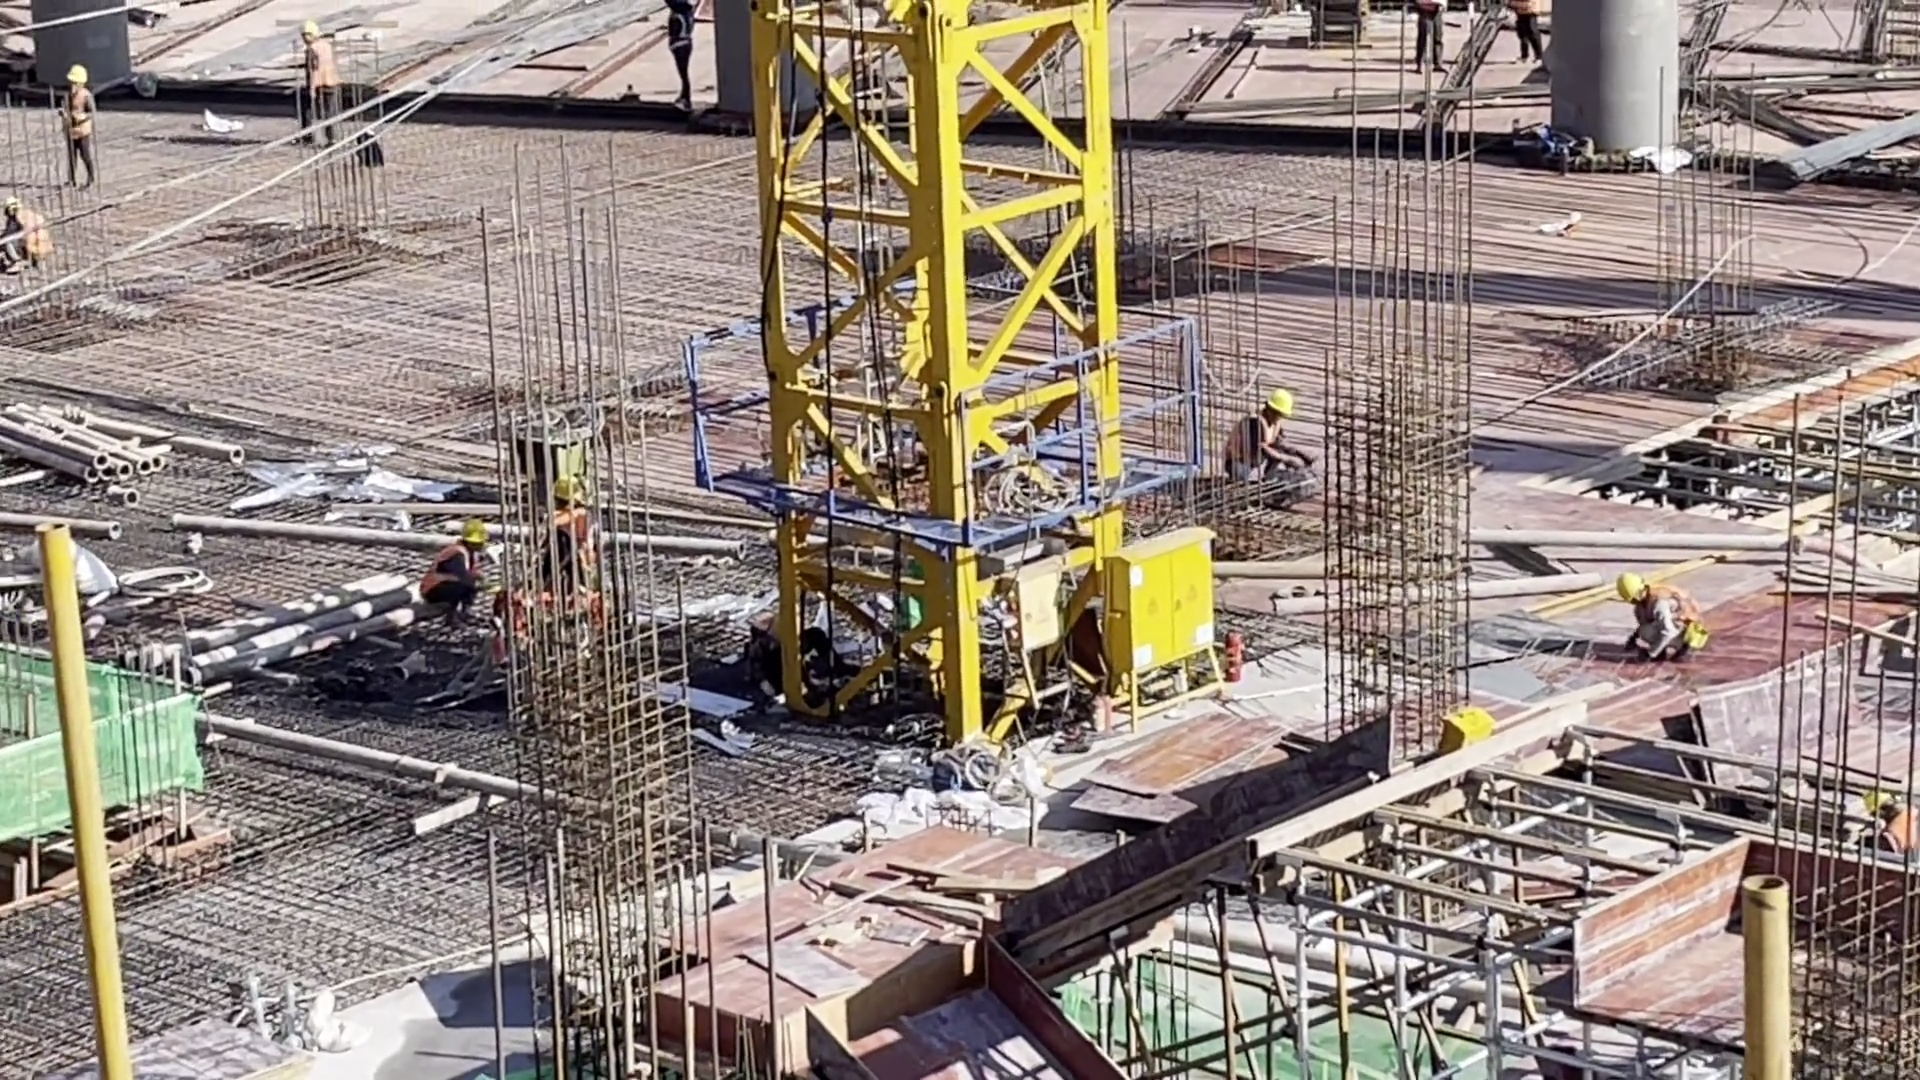ebox: (1092, 518, 1226, 729), (1009, 552, 1083, 712), (1435, 704, 1499, 752)
helmet: (1266, 392, 1297, 425), (1616, 572, 1647, 603), (462, 522, 491, 549), (63, 64, 86, 88)
person: (1216, 387, 1317, 494), (1602, 564, 1712, 661), (424, 520, 504, 639), (294, 12, 345, 138), (54, 67, 96, 190), (658, 1, 702, 111), (1867, 779, 1920, 863), (1, 195, 58, 271), (1407, 1, 1449, 74), (1501, 1, 1540, 52)
rebar: (1744, 81, 1920, 203)
vest: (1647, 583, 1710, 647), (422, 549, 483, 609), (1224, 414, 1282, 475), (303, 43, 336, 104)
